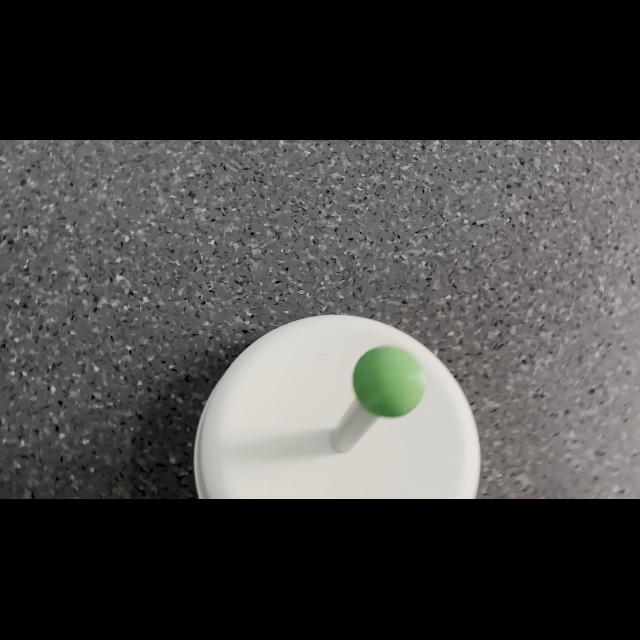objects: (346, 342, 432, 421)
